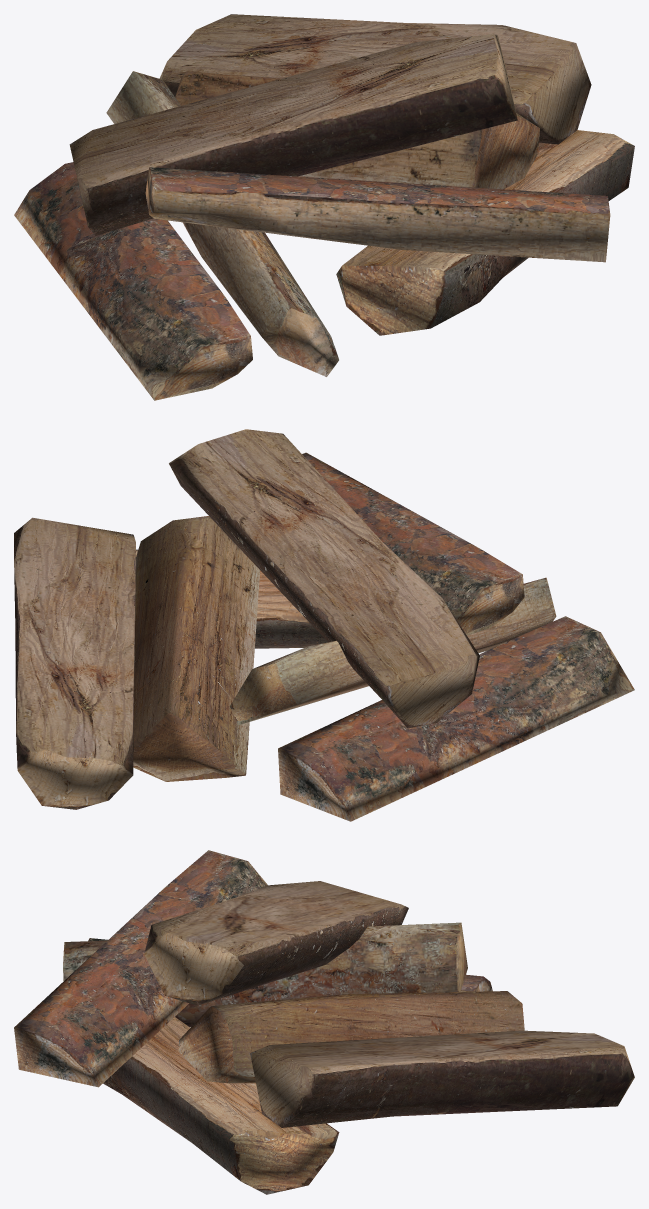
File: Lumber5.fbx
3 views of the same model, one above another, from view 1: azimuth 30°, elevation 25°; view 2: azimuth 150°, elevation 25°; view 3: azimuth 270°, elevation 25° (orthographic). The views are drawn at different scales.
Parts seen in each view (by area): view 1: polySurface162; view 2: polySurface162; view 3: polySurface162.
Boxes of the visible parts, bbox=[...] form: polySurface162: bbox=[14, 14, 634, 400]; polySurface162: bbox=[14, 429, 634, 821]; polySurface162: bbox=[14, 850, 634, 1194].
Size of the model in its own units: 101 by 38.61 by 111.
